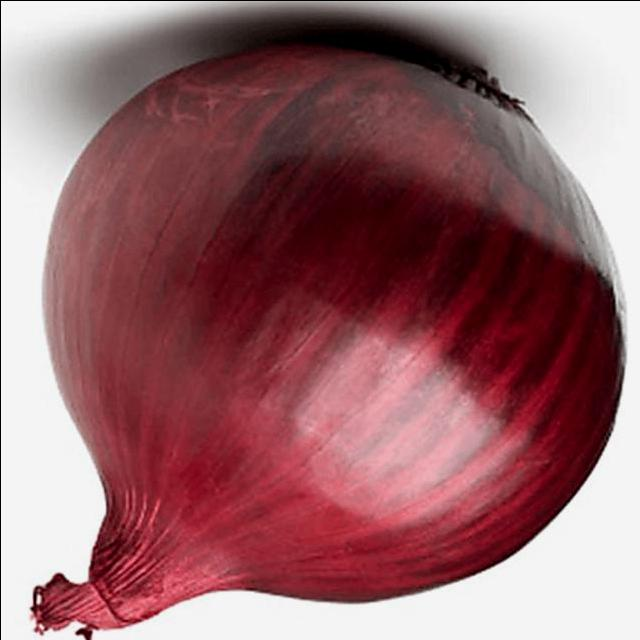onion: (38, 40, 624, 640)
